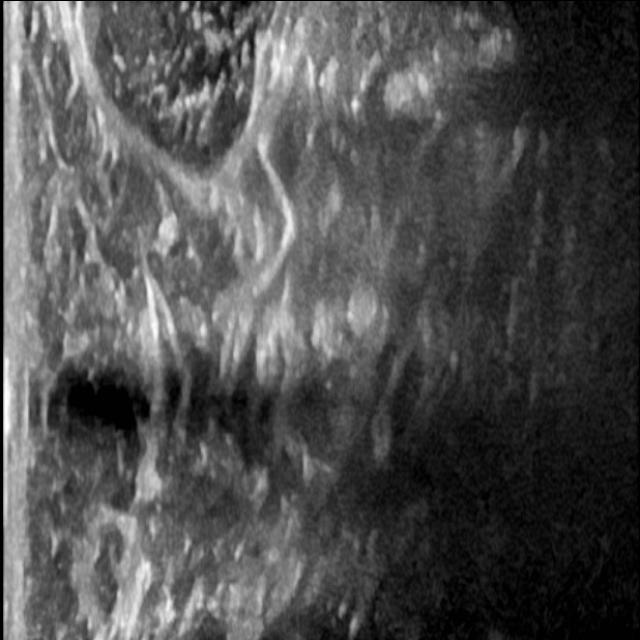Normal: (15, 28, 612, 622)
